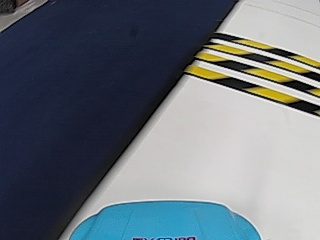bump: (211, 35, 313, 106)
